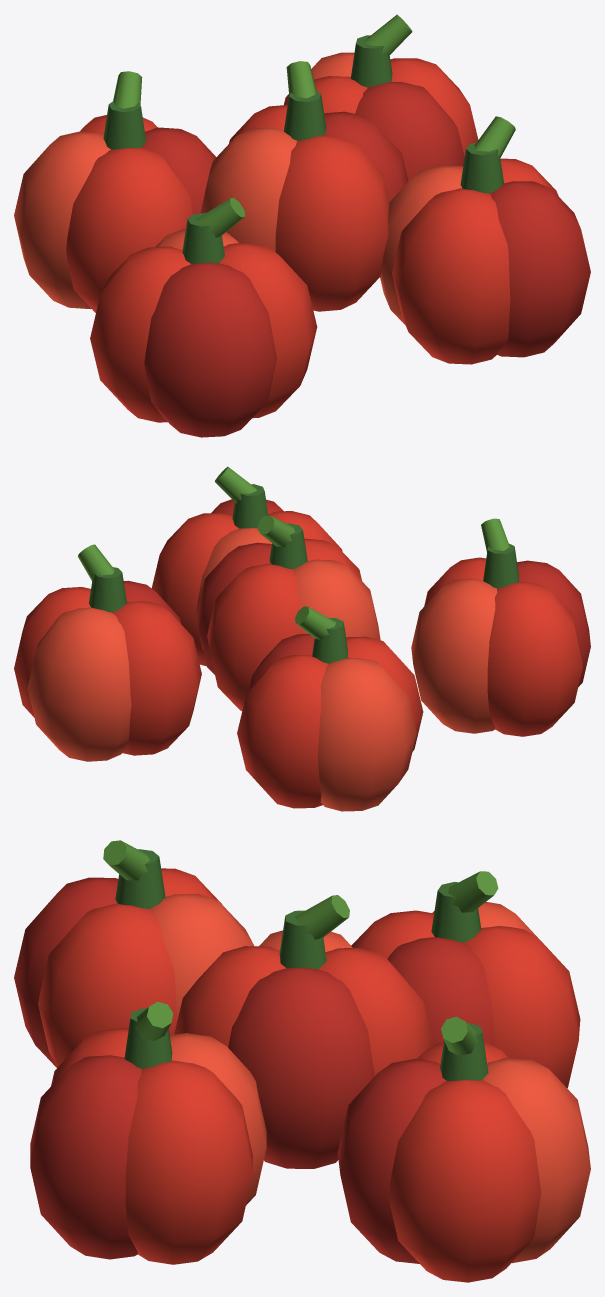
File: Pepper_Pocket_Cluster.fbx
3 renders of one model, top to bottom at view 1: azimuth 30°, elevation 25°; view 2: azimuth 150°, elevation 25°; view 3: azimuth 270°, elevation 25°, orthographic. The views are drawn at different scales.
Parts seen in each view (by area): view 1: Body; view 2: Body; view 3: Body.
Part boxes in pixels (box(x1,y1,x2,y2)): Body: box(14, 14, 590, 437); Body: box(14, 466, 590, 811); Body: box(14, 840, 590, 1282).
Size of the model in its own units: 0.422 by 0.2027 by 0.3653.
